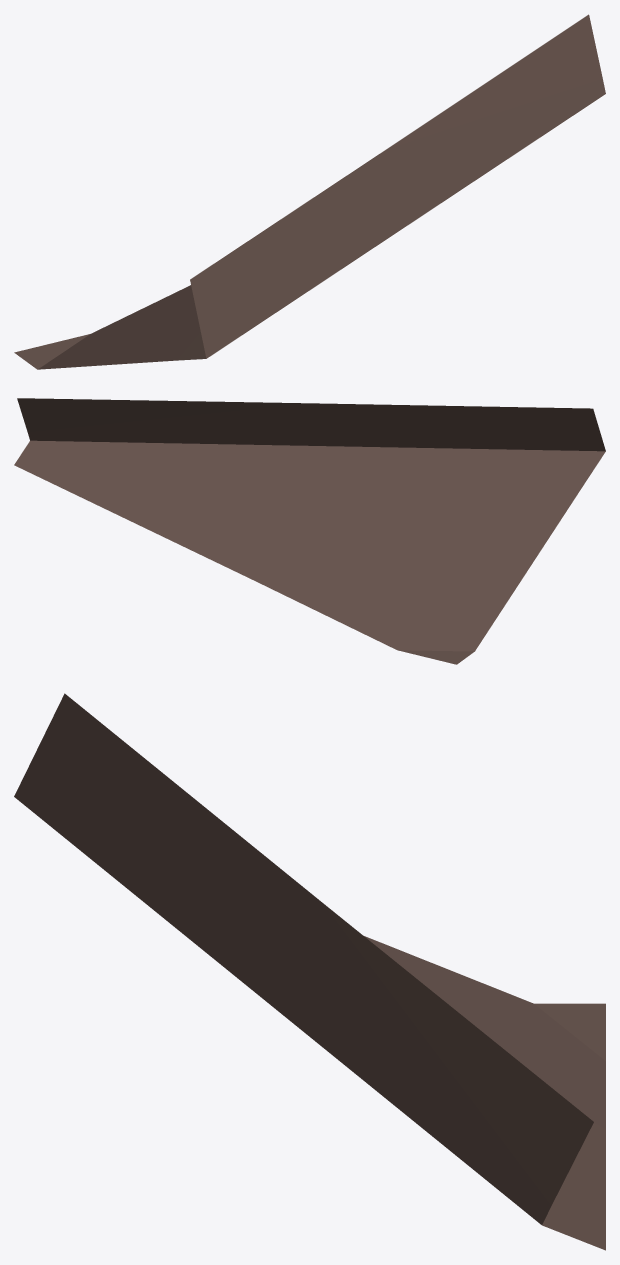
The model's file is cell_261.obj.
The picture shows the model from 3 angles, top to bottom: view 1: azimuth 30°, elevation 25°; view 2: azimuth 150°, elevation 25°; view 3: azimuth 270°, elevation 25°; orthographic projection. The views are drawn at different scales.
Size of the model in its own units: 1 by 0.3375 by 0.5836.
